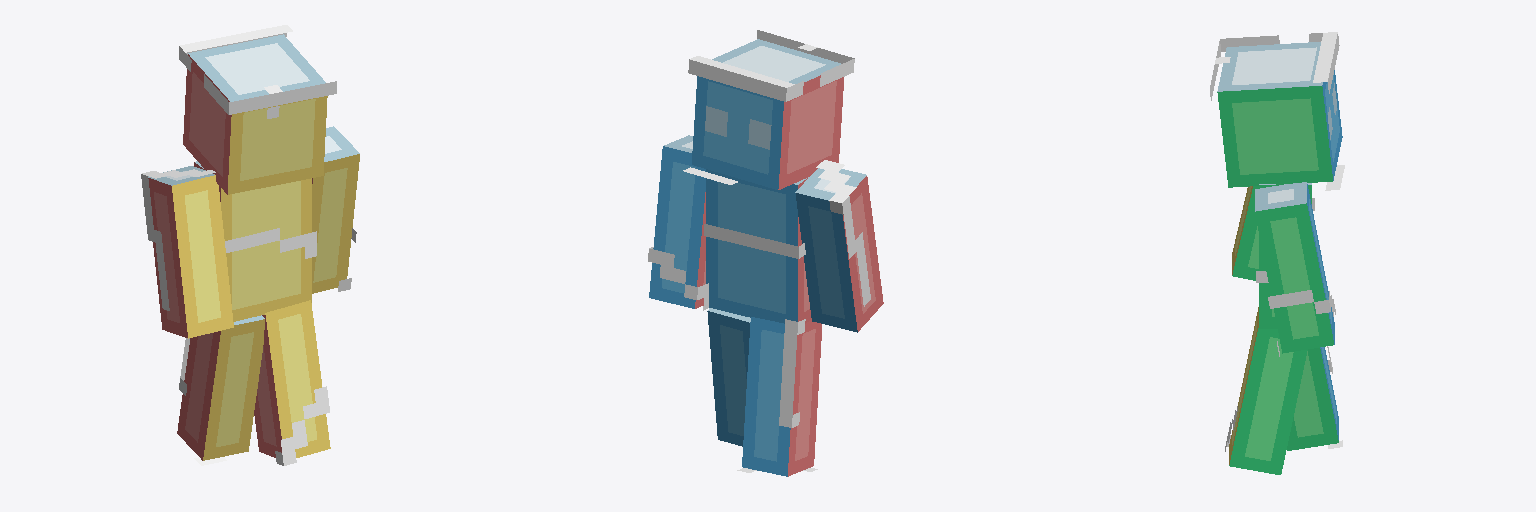
3 views of the same model, side by side, from view 1: azimuth 30°, elevation 25°; view 2: azimuth 150°, elevation 25°; view 3: azimuth 270°, elevation 25° (orthographic).
Parts seen in each view (by area): view 1: Head, Left Arm, Body, Left Leg, Right Leg, Right Arm, Hat Layer, Left Arm Layer, Right Leg Layer, Body Layer; view 2: Head, Body, Left Leg, Left Arm, Right Arm, Right Leg, Hat Layer, Left Arm Layer, Left Leg Layer, Body Layer, Right Arm Layer; view 3: Head, Right Arm, Right Leg, Left Leg, Hat Layer, Left Arm, Body, Right Arm Layer.
Part boxes in pixels (x1,y1,x2,y2): Head: (183,34,327,194); Left Arm: (148,166,233,338); Body: (194,161,311,321); Left Leg: (177,315,264,460); Right Leg: (254,300,330,457); Right Arm: (312,126,359,293); Hat Layer: (179,25,336,114); Left Arm Layer: (141,169,215,310); Right Leg Layer: (275,386,329,465); Body Layer: (225,228,316,258); Head: (692,39,843,189); Body: (706,169,811,323); Left Leg: (742,317,821,476); Left Arm: (795,168,883,332); Right Arm: (649,135,705,308); Right Leg: (707,308,750,446); Hat Layer: (683,30,854,184); Left Arm Layer: (816,160,870,306); Left Leg Layer: (737,319,817,472); Body Layer: (704,224,805,258); Right Arm Layer: (648,247,708,310); Head: (1217,42,1342,187); Right Arm: (1255,182,1334,353); Right Leg: (1229,307,1307,474); Left Leg: (1287,347,1338,450); Hat Layer: (1210,32,1344,190); Left Arm: (1232,186,1258,280); Body: (1259,183,1311,328); Right Arm Layer: (1268,290,1335,356).
Size of the model in its own units: 1.03 by 2.09 by 0.6649.
1 materials, 1 textured.